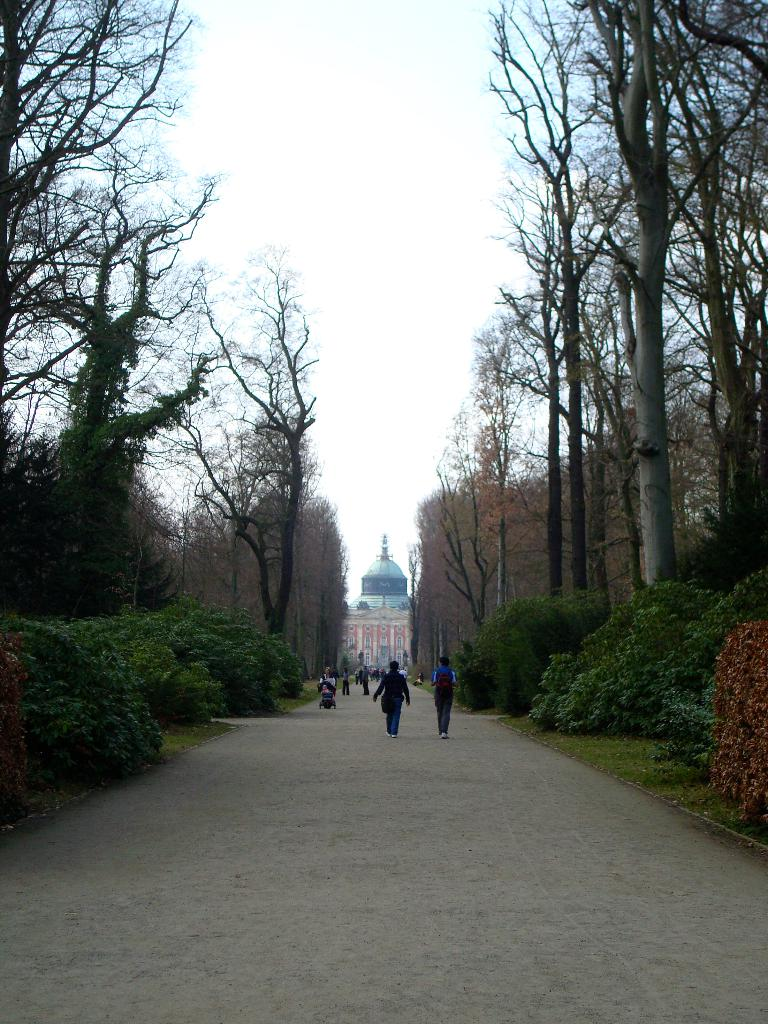Tree: (478, 0, 767, 590), (0, 0, 240, 621), (135, 238, 330, 649), (418, 304, 570, 644)
